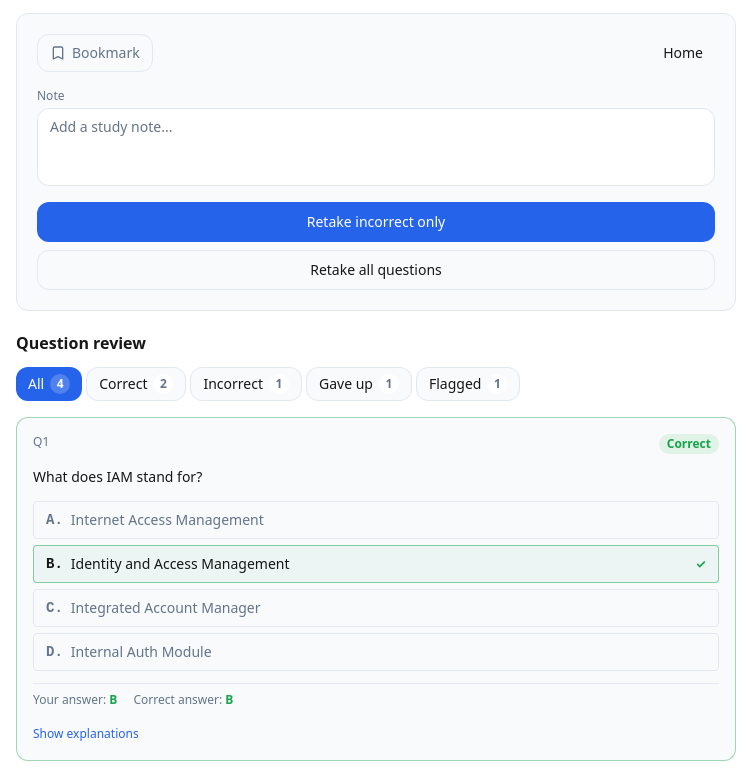
Test: <DetailFilterBar> — filtering › Incorrect filter shows only the 1 incorrect question
(page scrolled)
Click the tab "Incorrect 1". click: point(246, 384)
box: [190, 367, 302, 401]
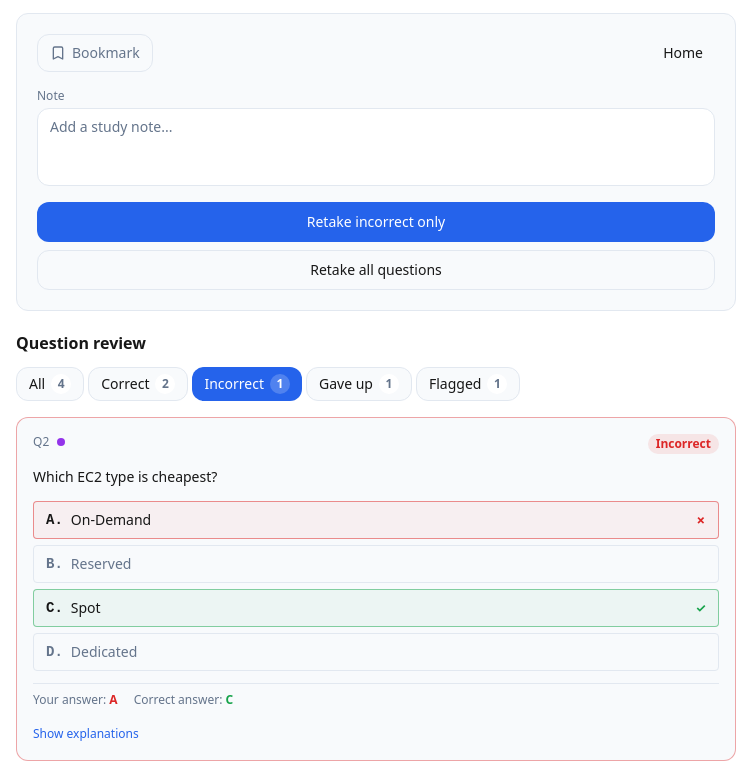
Expected: the text "Which EC2 type is cheapest?" is shown, [33, 467, 217, 486]
Now the text "What does IAM stand for?" is gone
